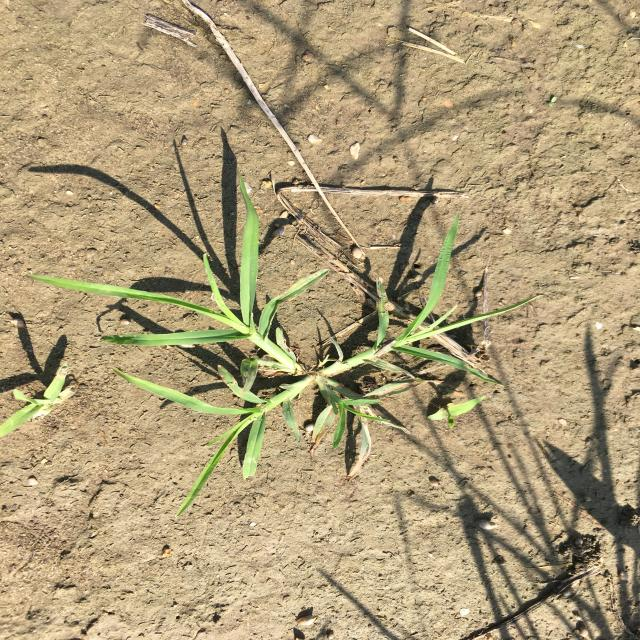Goosegrass: (23, 177, 547, 521)
